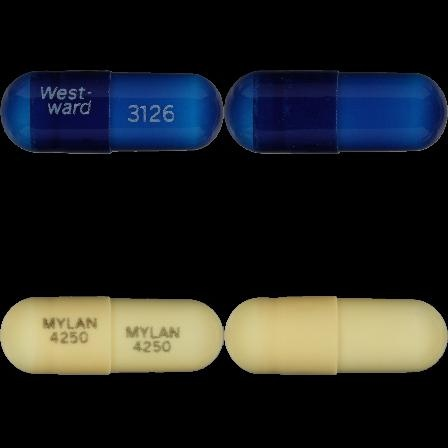16590-077: (0, 0, 224, 224)
